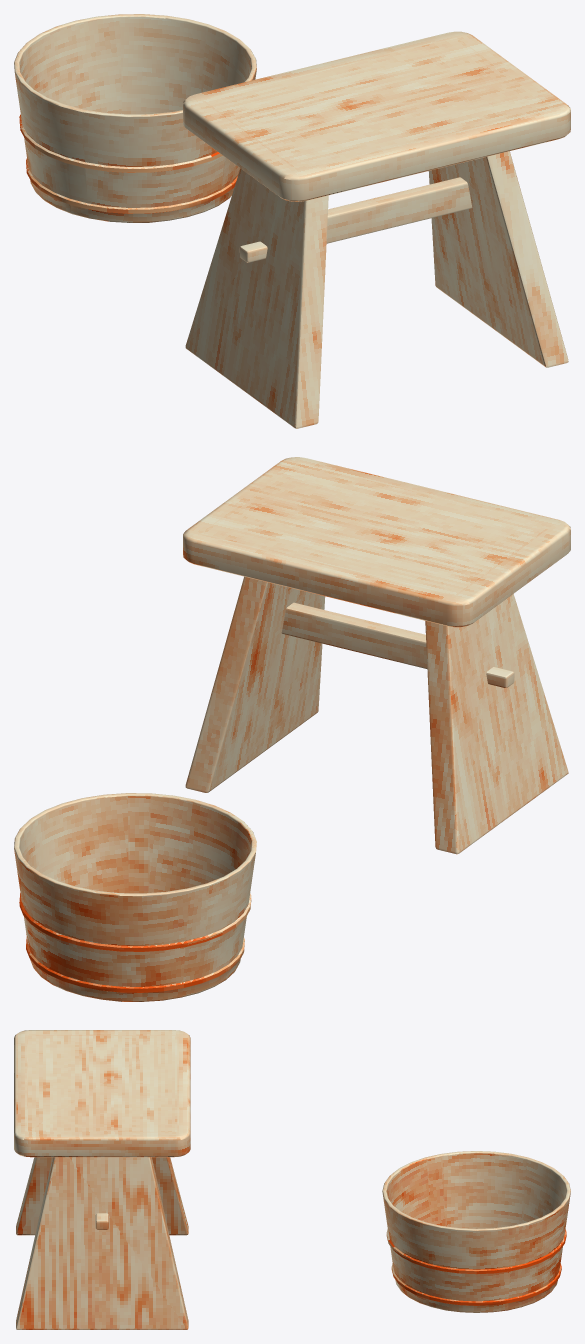
The model's file is bath_stool_set.glb.
3 renders of one model, top to bottom at view 1: azimuth 30°, elevation 25°; view 2: azimuth 150°, elevation 25°; view 3: azimuth 270°, elevation 25°, orthographic. The views are drawn at different scales.
Parts seen in each view (by area): view 1: mesh; view 2: mesh; view 3: mesh.
Boxes of the visible parts, x1,y1,x2,y2 form: mesh: (14, 14, 570, 428); mesh: (14, 457, 570, 1001); mesh: (14, 1030, 570, 1329).
Size of the model in its own units: 0.3609 by 0.3 by 0.7758.
Materials: 1 (1 with a texture image).
